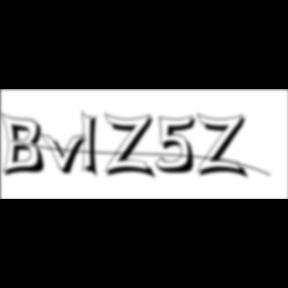5: (154, 114, 202, 176)
B: (0, 111, 50, 179)
Z: (104, 112, 160, 181), (197, 112, 252, 181)
l: (82, 108, 104, 182)
v: (39, 131, 93, 177)
